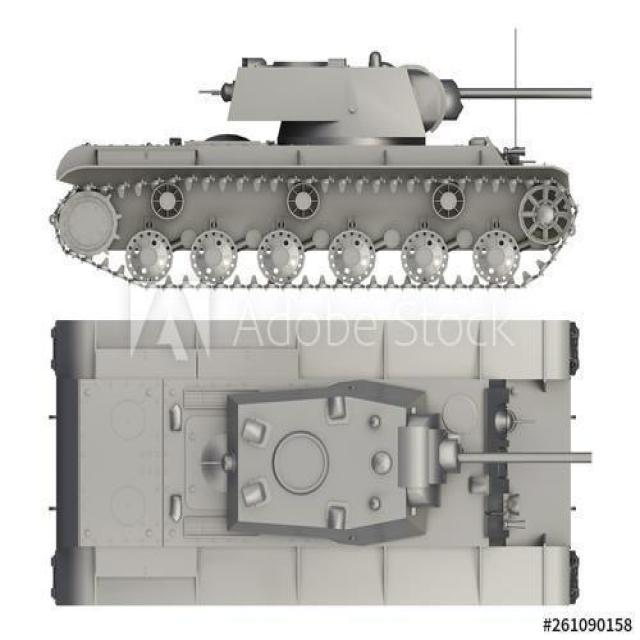Tanks: (39, 313, 574, 621), (39, 35, 568, 301)
